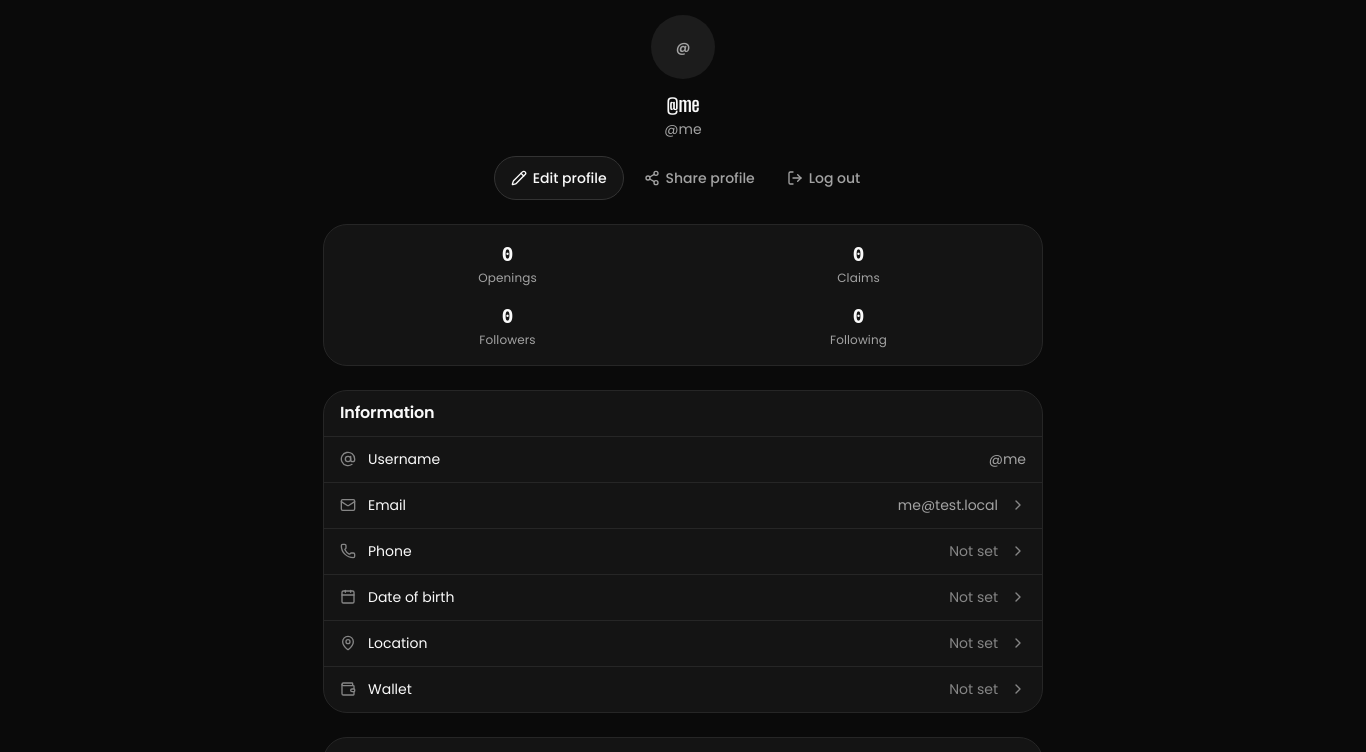
Scenario: Profile — field-specific edit (Phase 5n-B) › saves a new email and closes the dialog
Click the button "Email me@test.local".
click(387, 505)  # box [324,482,1042,528]
(page scrolled)
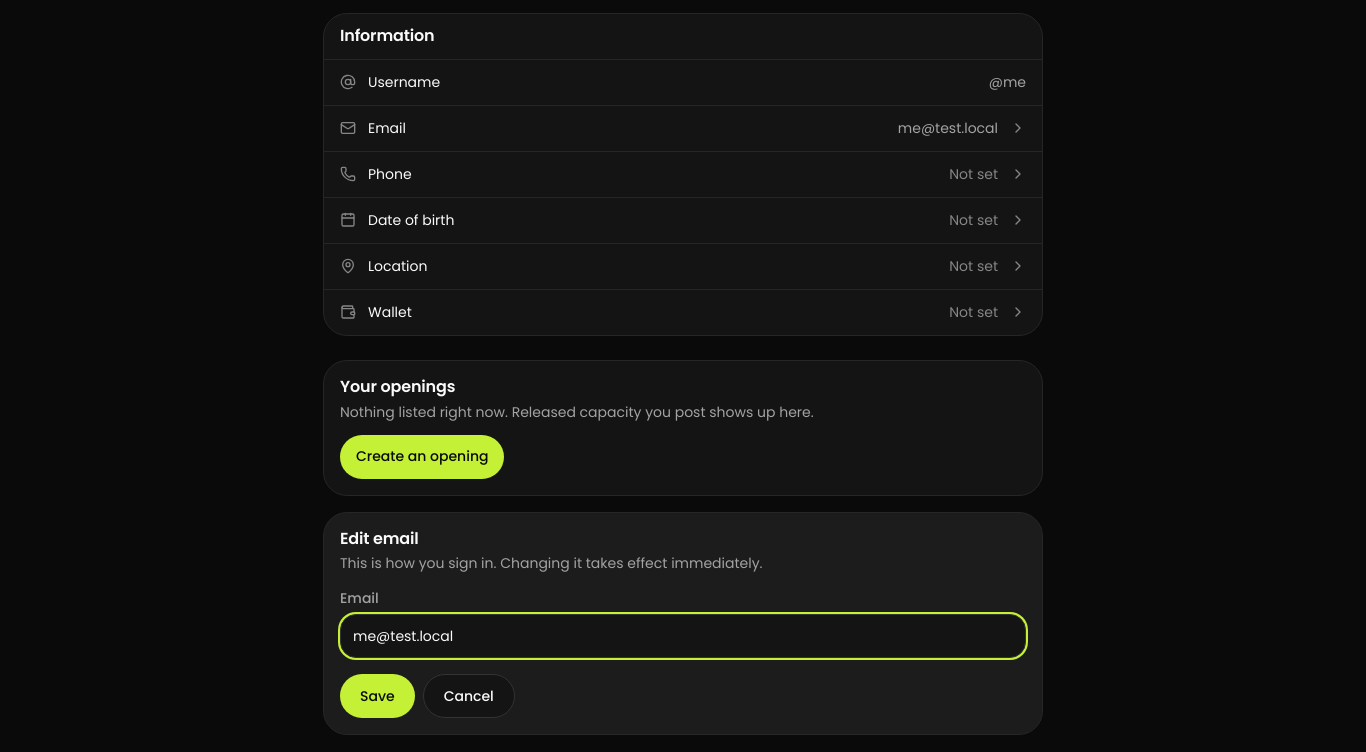
Replace the text in the field labelled "Email" with "new@test.local" at (683, 636), box [340,614,1026,658]
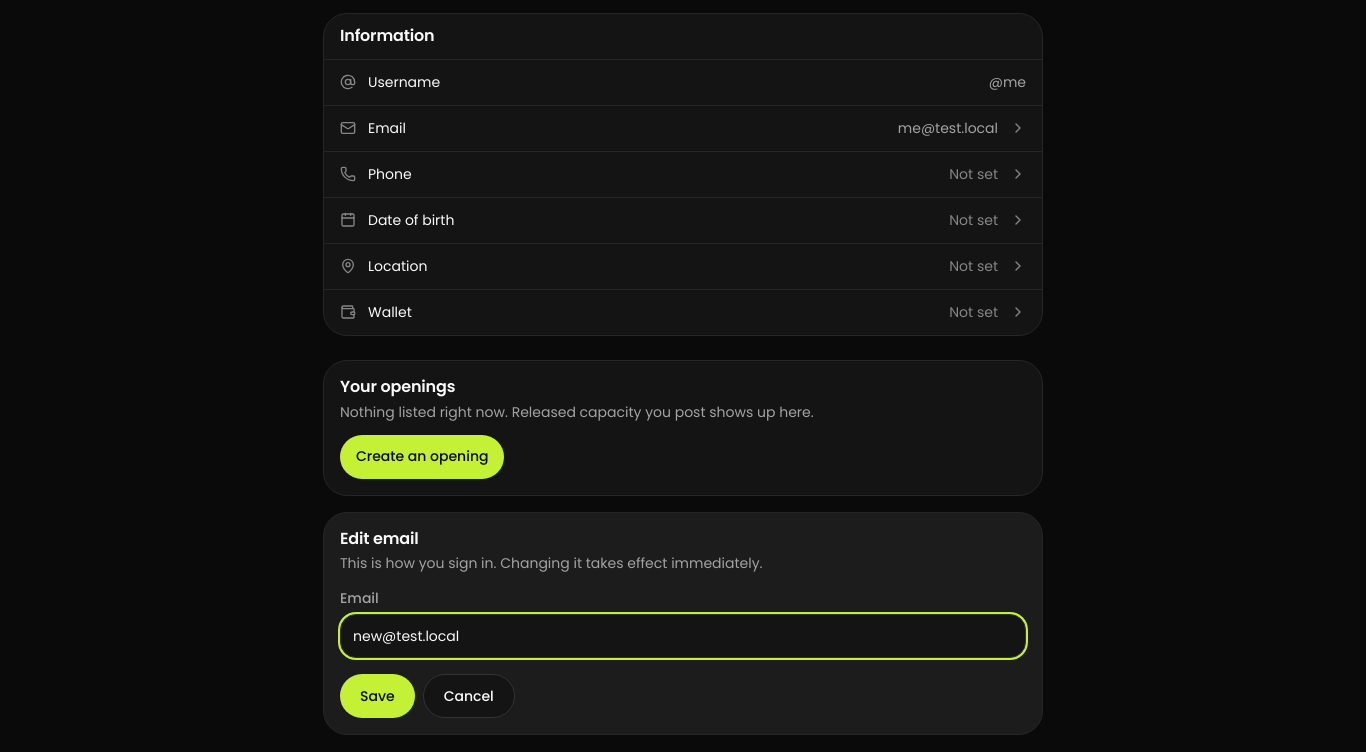
Click the button "Save".
click(377, 696)  # box [340,674,415,718]
(page scrolled)
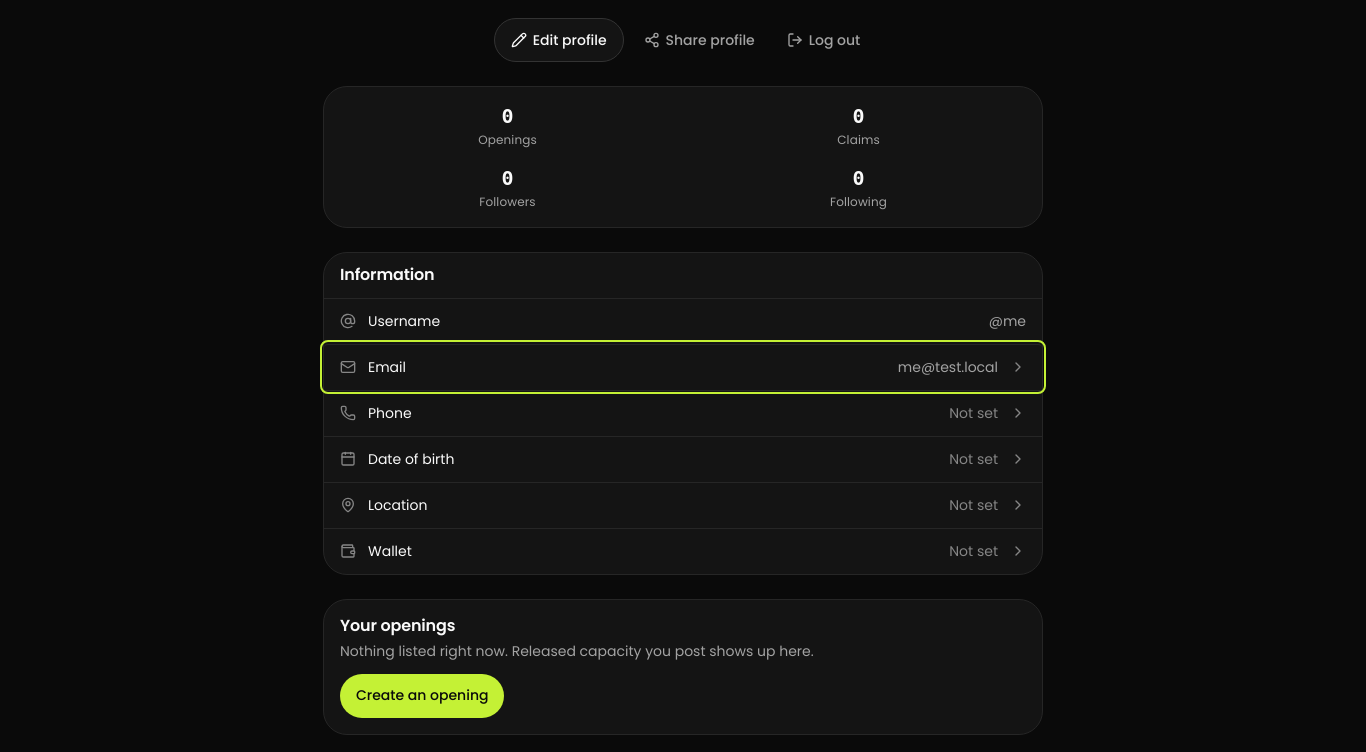
Expected: the dialog is gone
